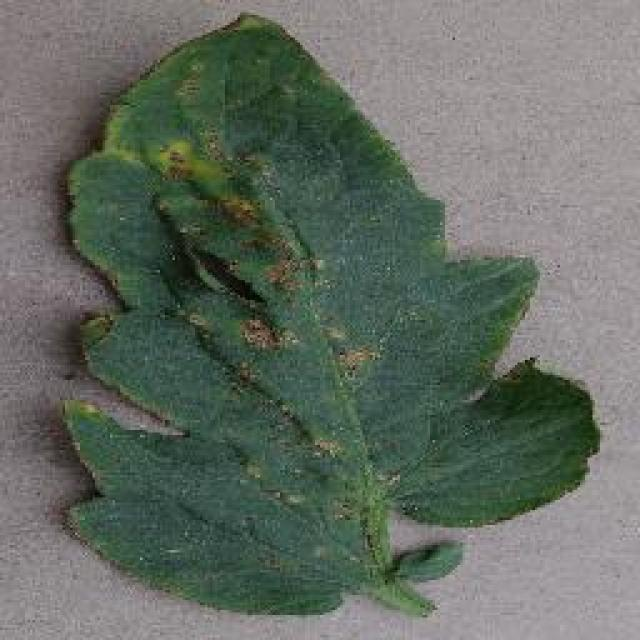bacterial spot: (56, 16, 601, 620)
